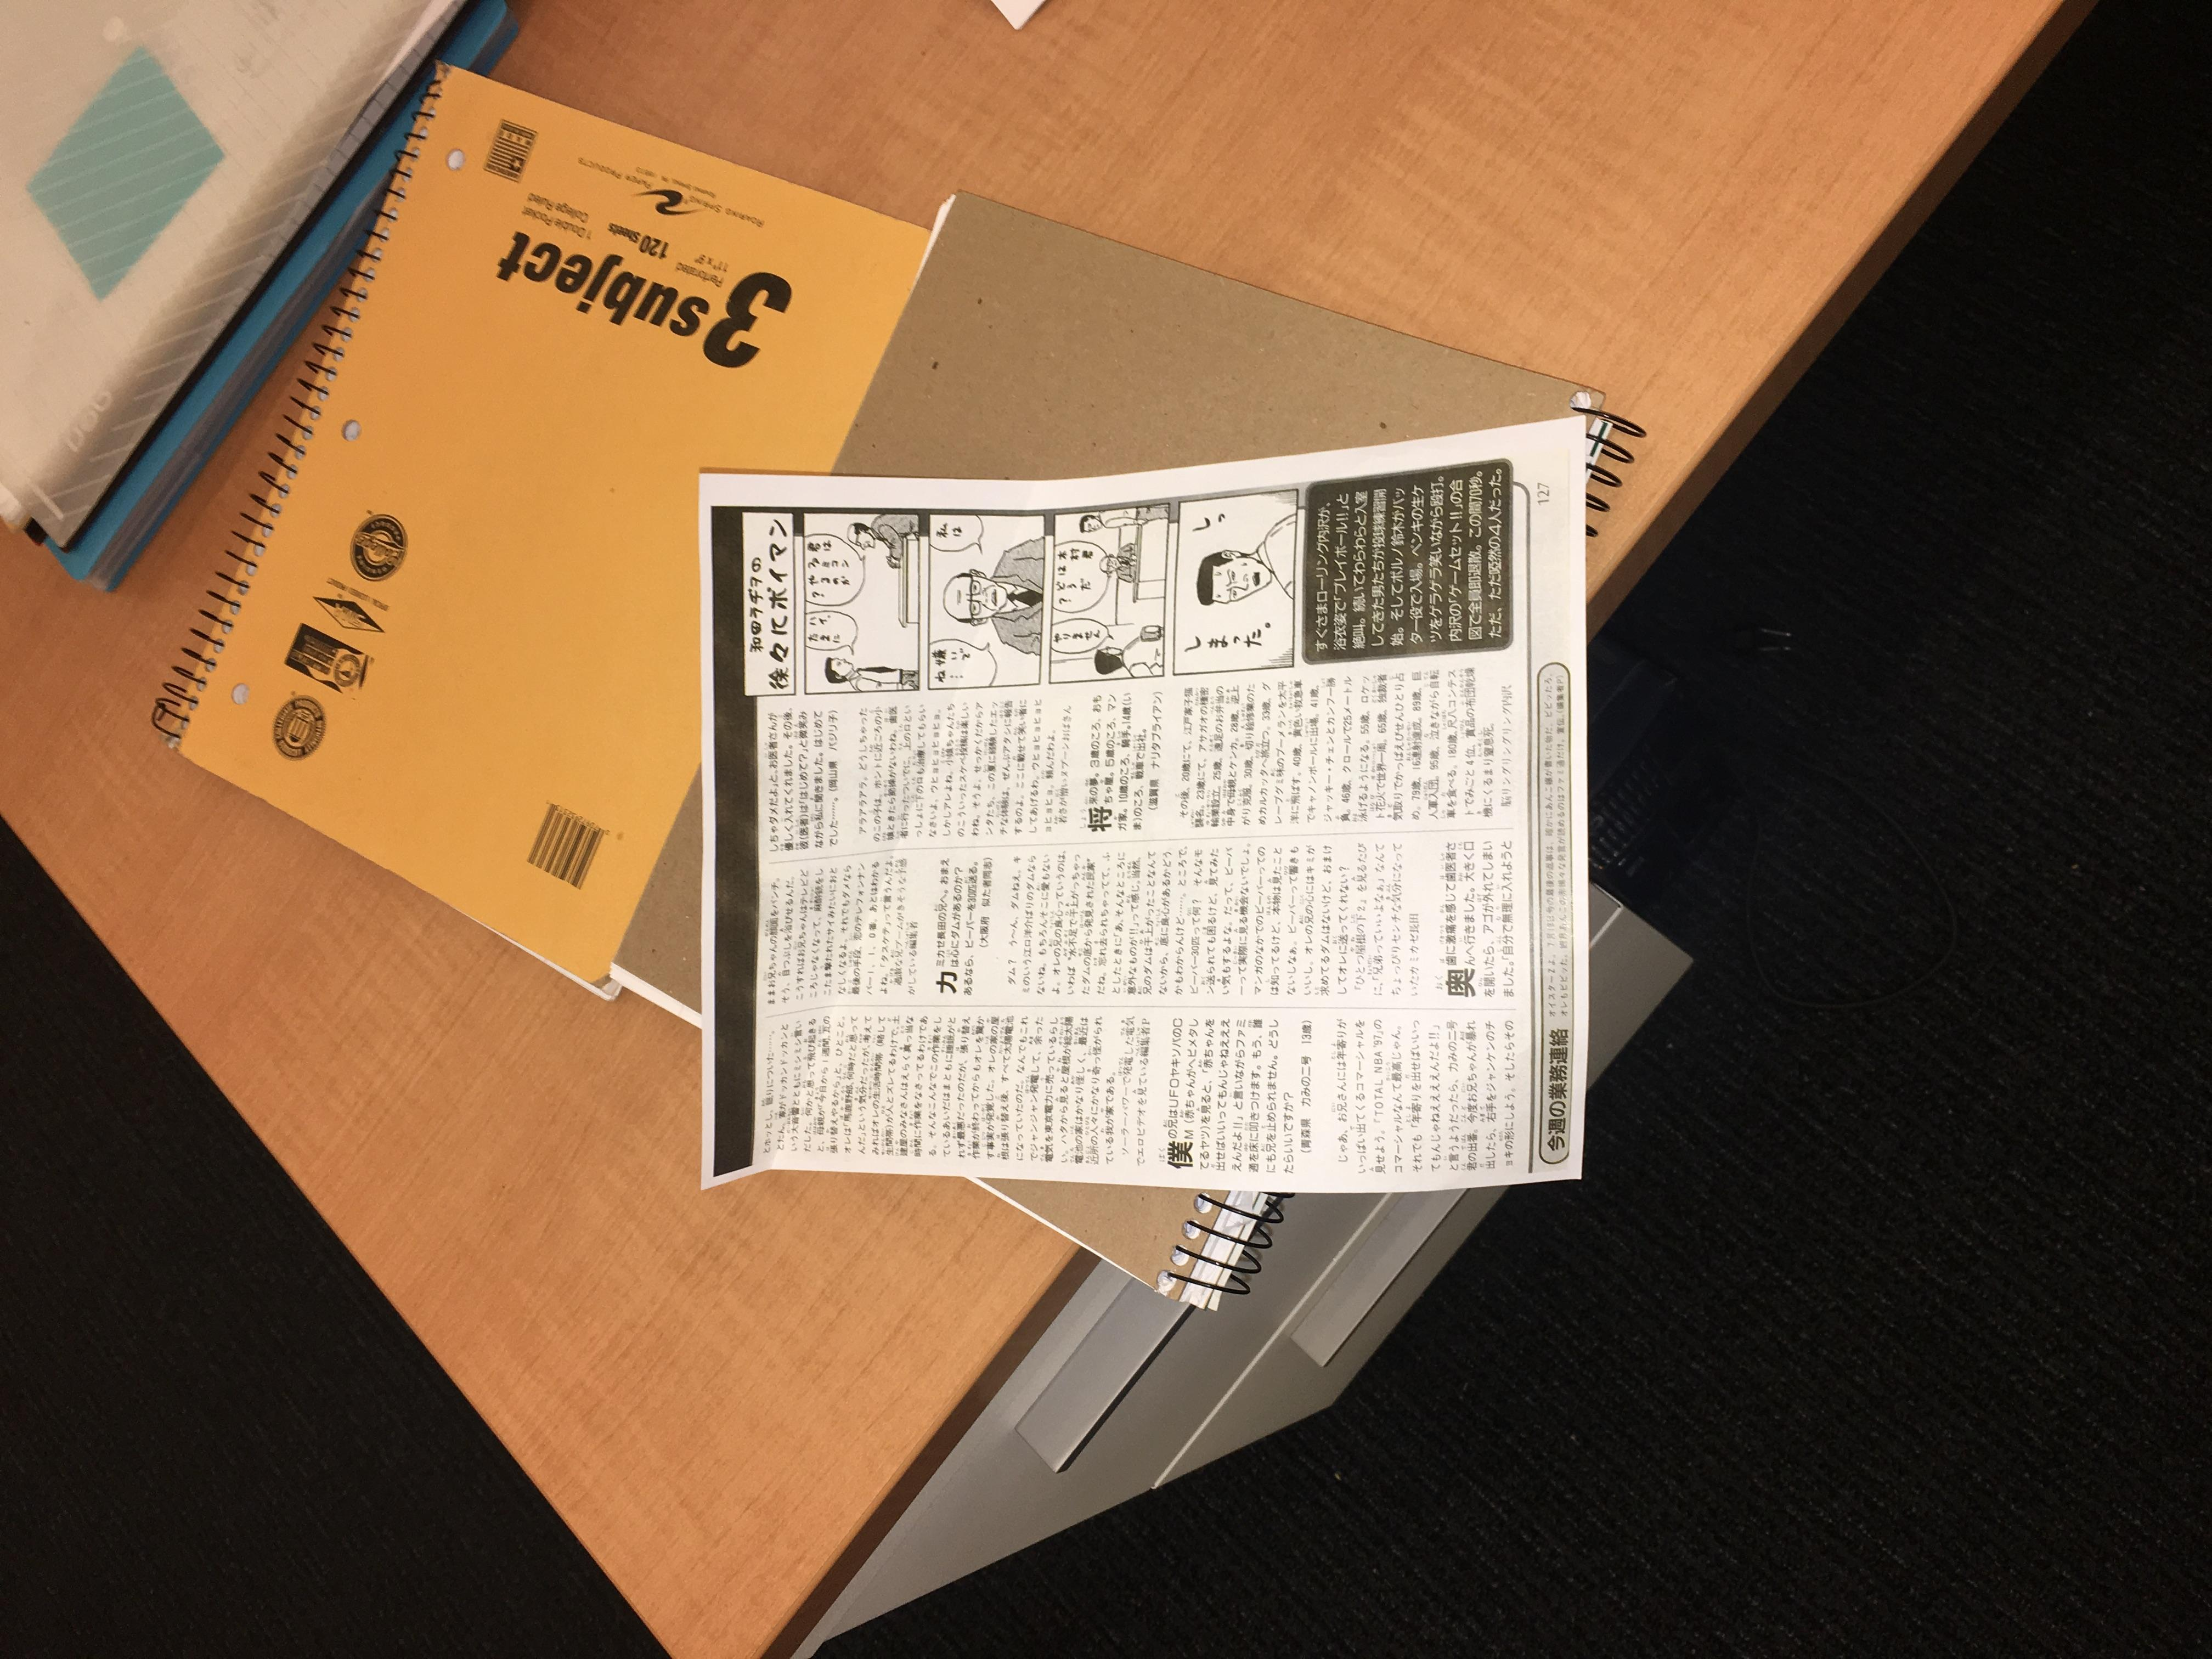paper: (489, 451, 1956, 1276)
